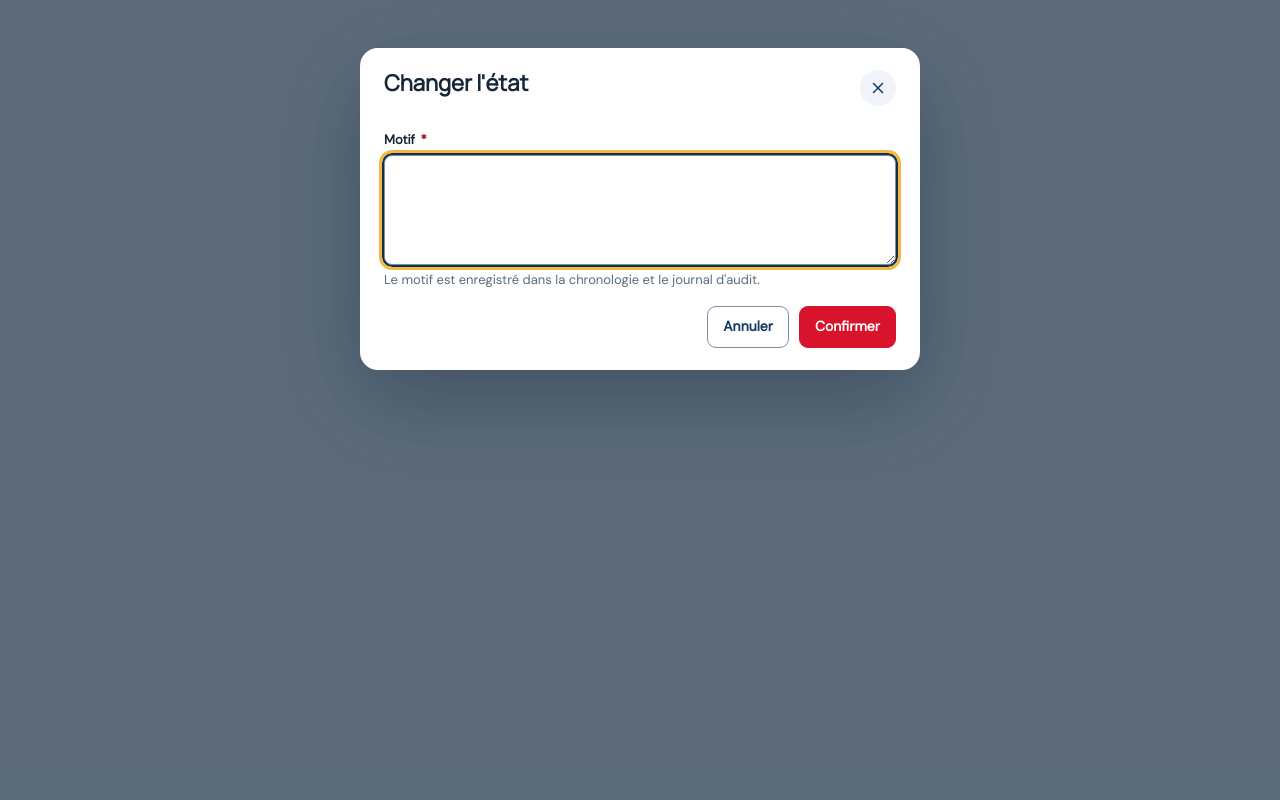
Test case: Finition UX — modale d’action › refuse un motif trop court
Click the button "Confirmer": (848, 327) [799,306,896,348]
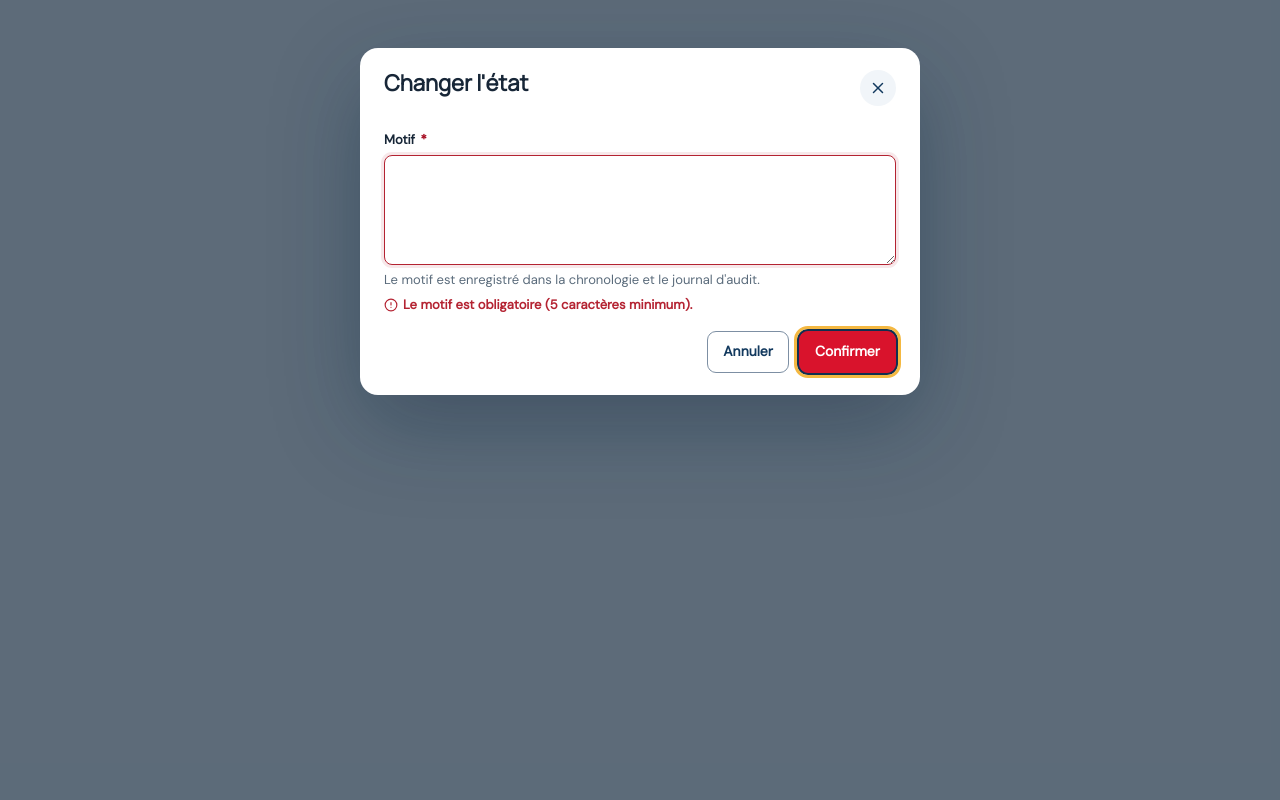
Expected: the text "Le motif est obligatoire (5 caractères minimum)." is shown, [384,296,692,313]
